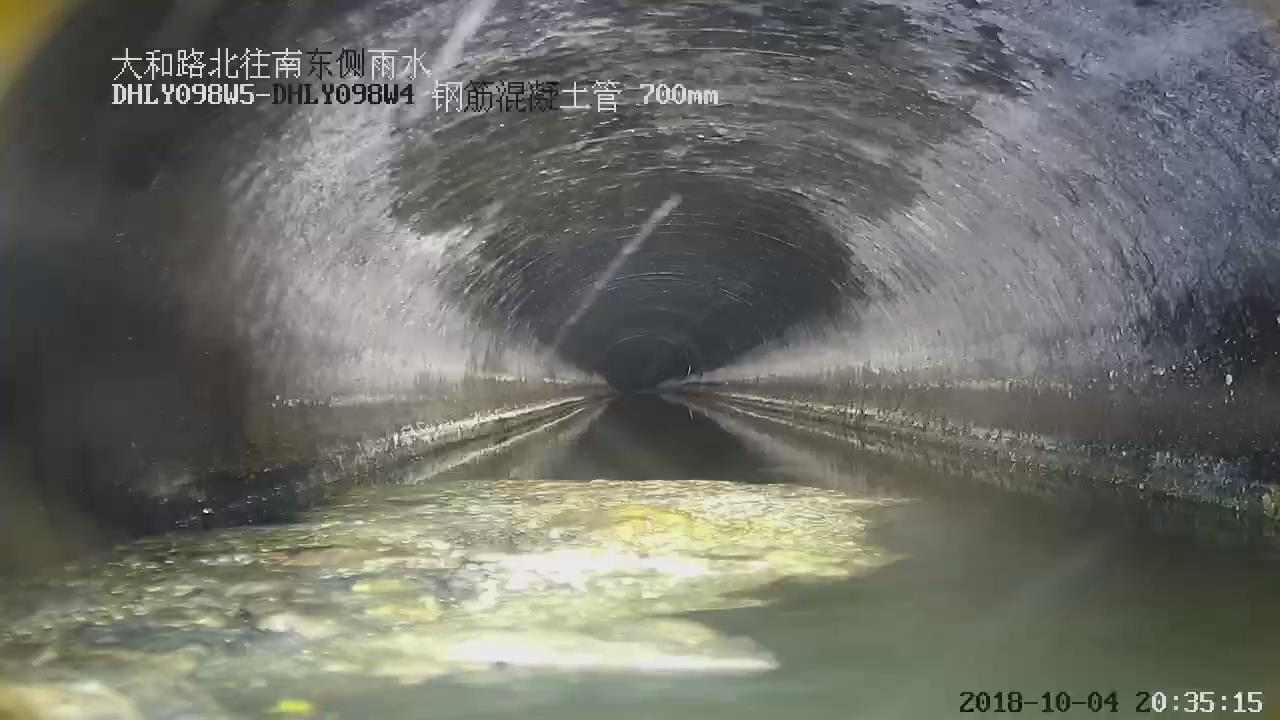FZ: (0, 480, 895, 719)
